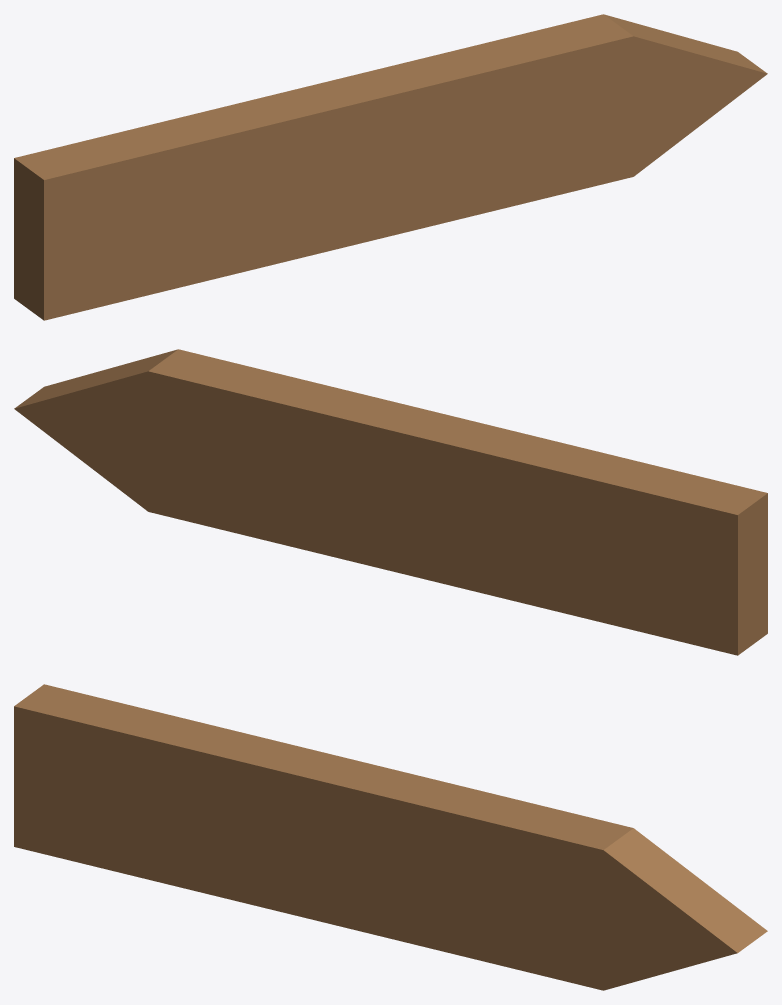
The model's file is Grassland_SignPanel.fbx.
The picture shows the model from 3 angles, top to bottom: view 1: azimuth 30°, elevation 25°; view 2: azimuth 150°, elevation 25°; view 3: azimuth 330°, elevation 25°; orthographic projection.
Visible parts, largest first — view 1: Grassland_SignPanel; view 2: Grassland_SignPanel; view 3: Grassland_SignPanel.
Boxes of the visible parts, x1,y1,x2,y2 form: Grassland_SignPanel: [14, 14, 767, 320]; Grassland_SignPanel: [14, 349, 767, 655]; Grassland_SignPanel: [14, 684, 767, 990].
Bounding box in the file's own units: 97 × 18 × 7.
